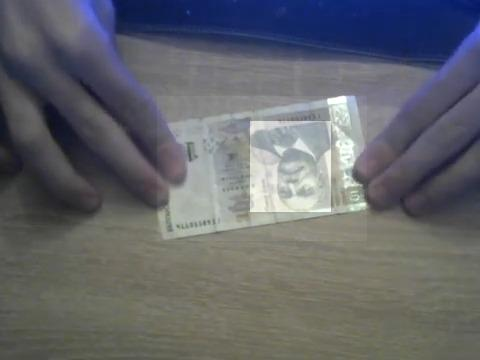10leva: (157, 96, 367, 241), (250, 121, 331, 212)
